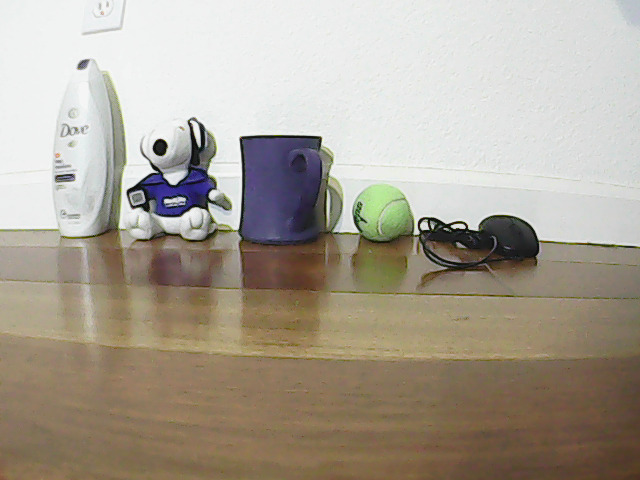ball: (358, 178, 408, 247)
mouse: (478, 201, 552, 269)
mug: (236, 130, 336, 246)
snoopy: (134, 112, 230, 247)
soap: (52, 43, 116, 245)
